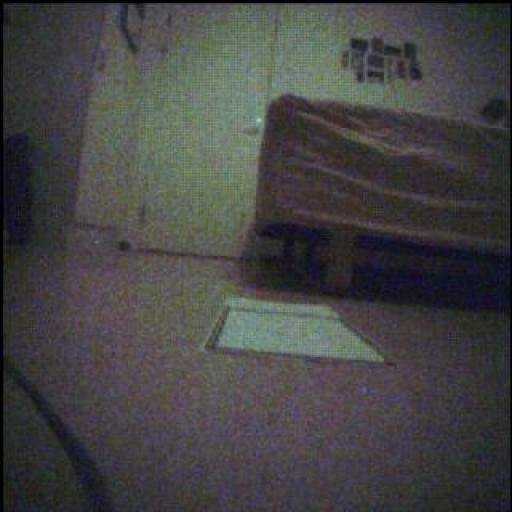pad: (206, 299, 388, 364)
